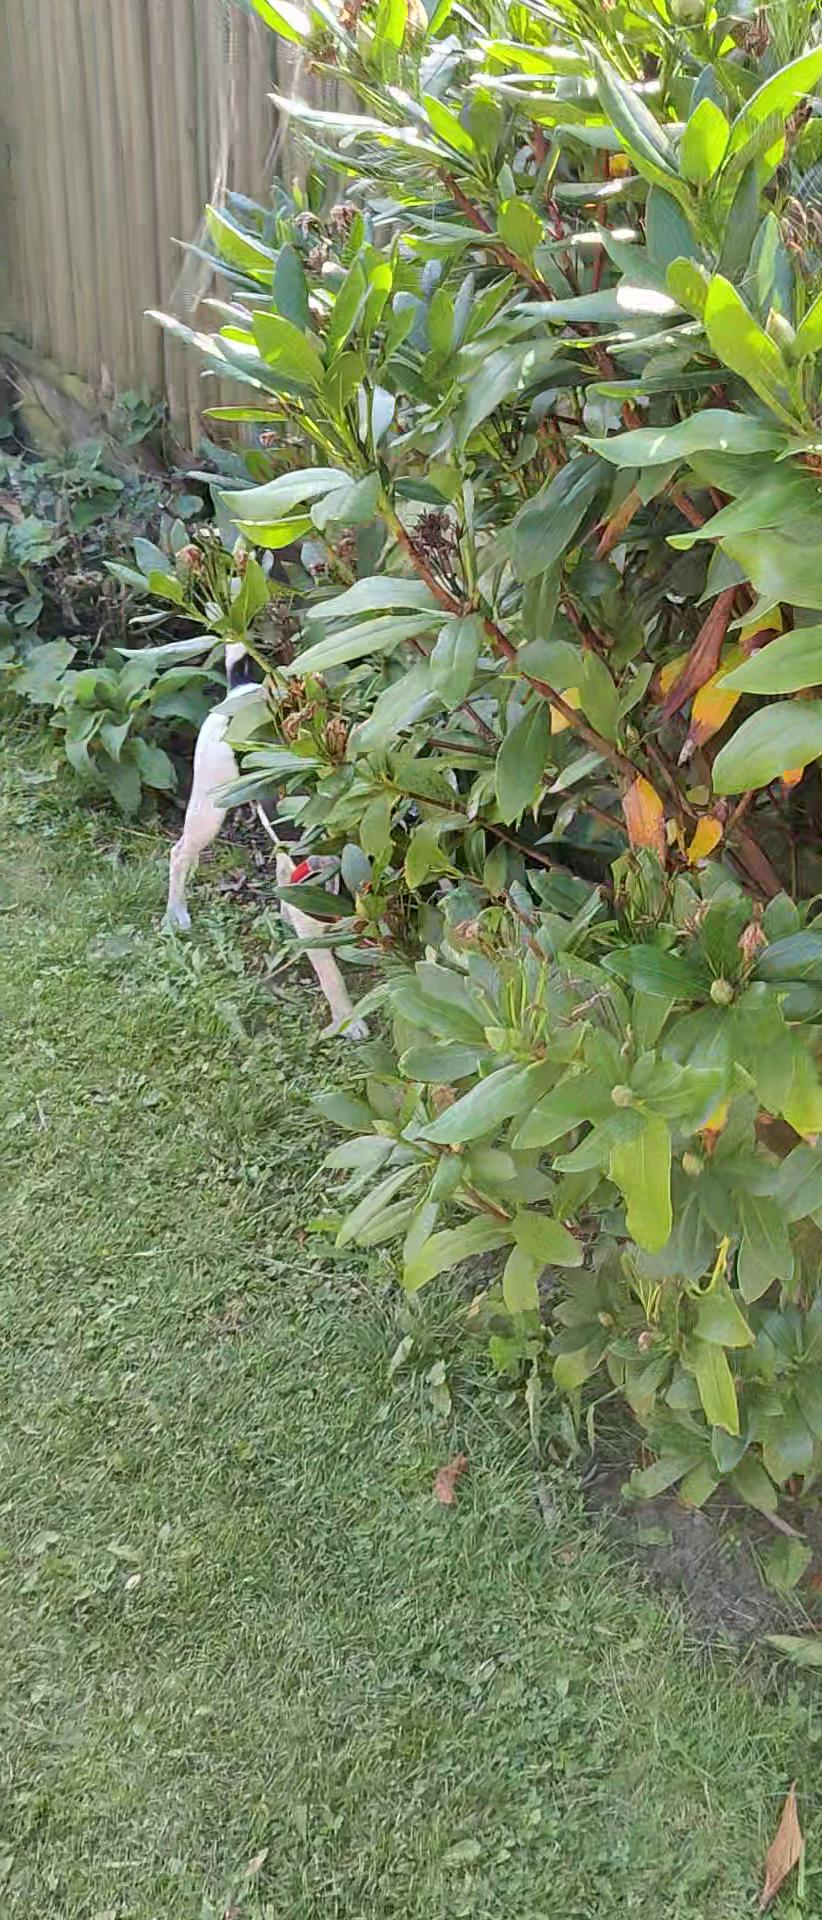Dog: (141, 566, 398, 1047)
